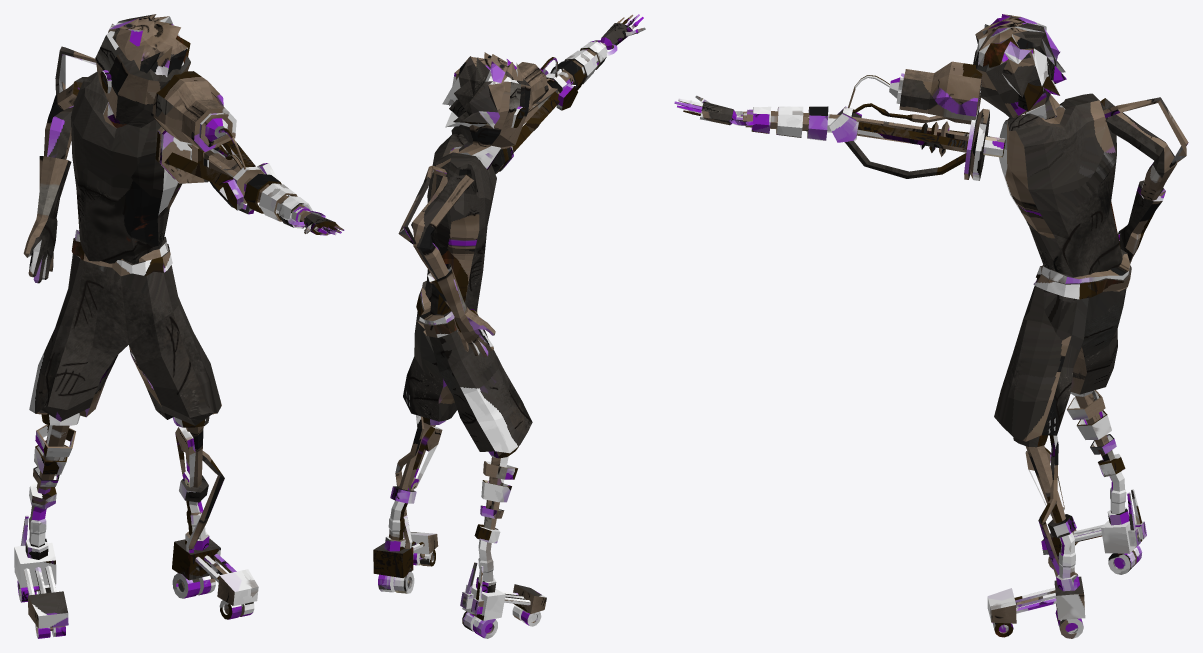
Rendered from CyborgFINALAnimation_000098.obj.
3 views of the same model, side by side, from view 1: azimuth 30°, elevation 25°; view 2: azimuth 150°, elevation 25°; view 3: azimuth 270°, elevation 25° (orthographic). The views are drawn at different scales.
Parts seen in each view (by area): view 1: CyborgMesh_Cube.002; view 2: CyborgMesh_Cube.002; view 3: CyborgMesh_Cube.002.
Part boxes in pixels (left/top/right/bottom): CyborgMesh_Cube.002: left=14, top=14, right=344, bottom=638; CyborgMesh_Cube.002: left=373, top=14, right=645, bottom=638; CyborgMesh_Cube.002: left=674, top=14, right=1188, bottom=638.
Size of the model in its own units: 3.03 by 9.43 by 7.6.
